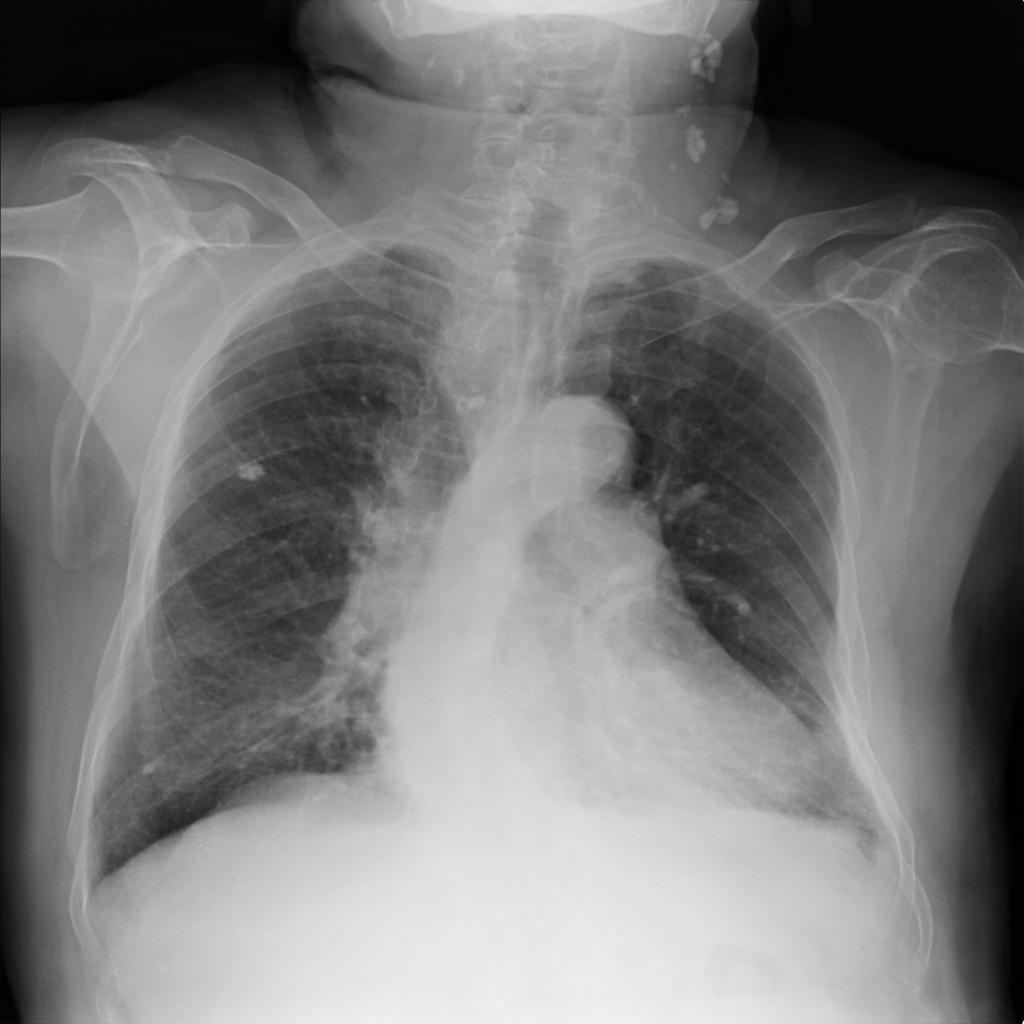Nodule: (233, 461, 267, 481), (142, 764, 157, 776)
